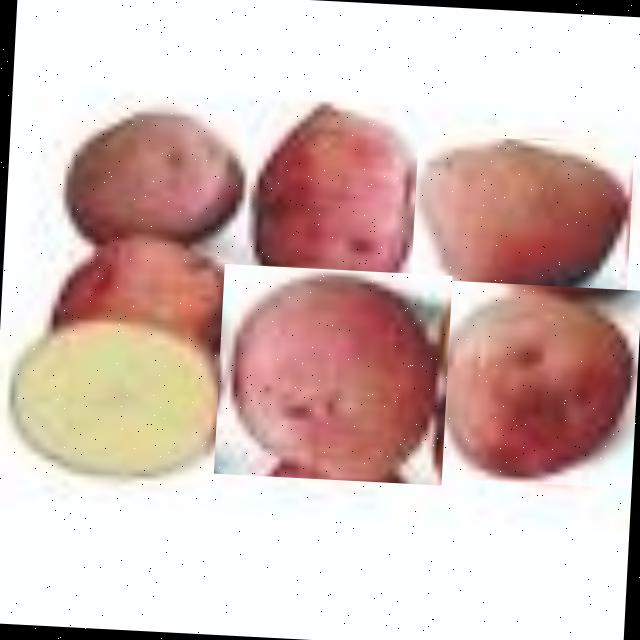Defected potato: (213, 262, 452, 484), (434, 279, 640, 487), (410, 133, 634, 304), (240, 92, 424, 300), (58, 100, 256, 256)
